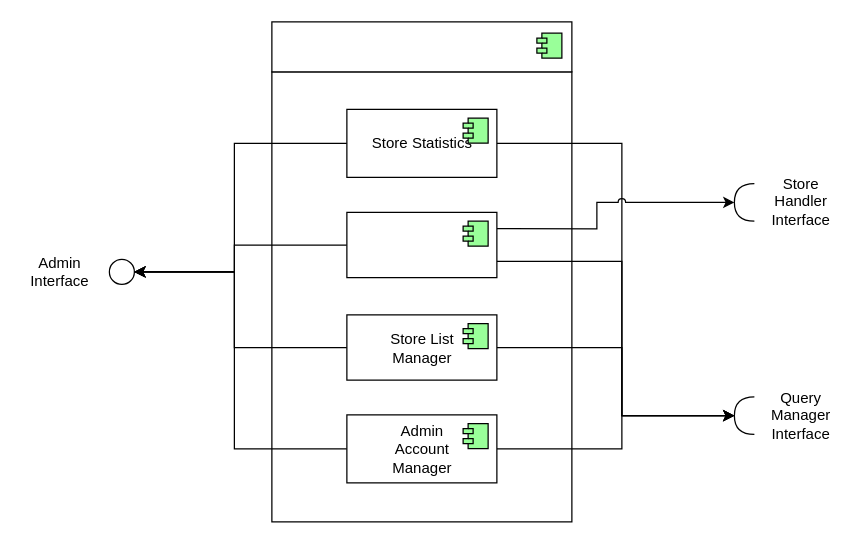
Some shapes in this 859 by 544 pixel diagram are drawn without their labels. The centre of each missing label's shape, as x and y in pixels:
<<component>> Admin Services: pixel 421 46
Store Details Manager: pixel 421 244
